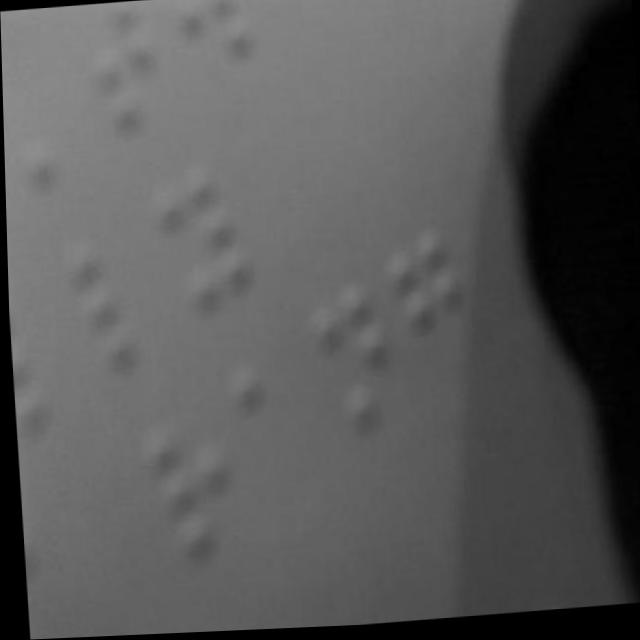braiile: (386, 226, 502, 400), (151, 167, 259, 311), (141, 417, 244, 566), (311, 280, 400, 438), (65, 240, 167, 377)
